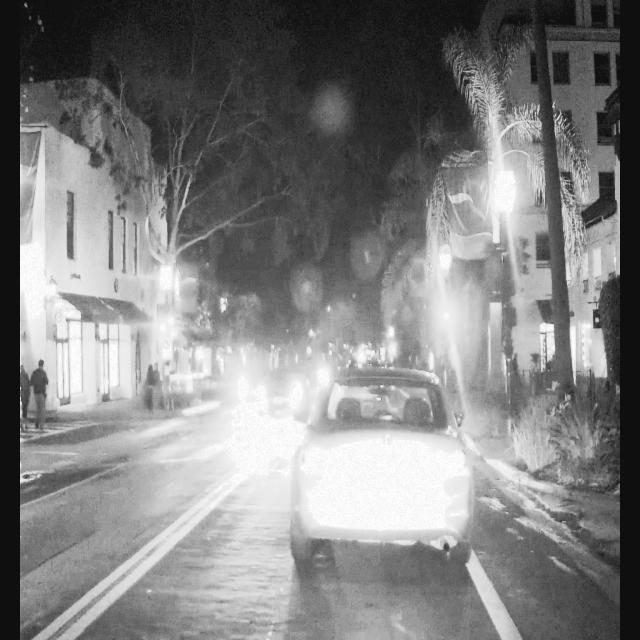Car: (290, 365, 478, 577)
Light: (495, 248, 513, 299), (514, 237, 528, 278)
Tree: (449, 25, 530, 445), (537, 0, 580, 482)
